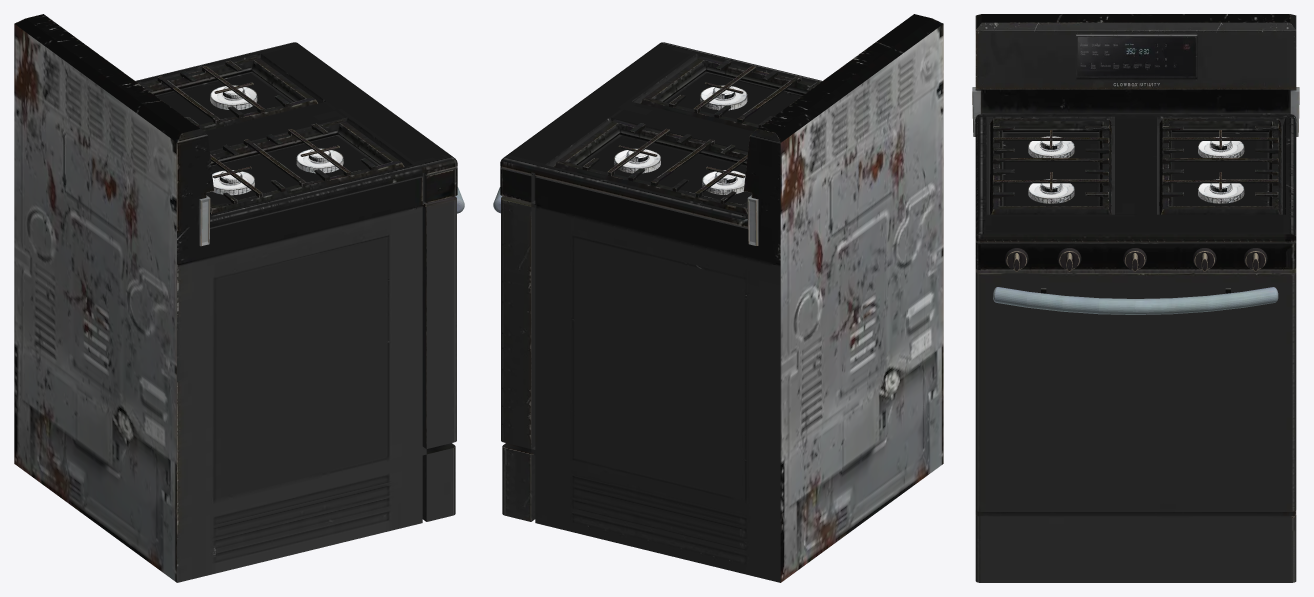
Rendered from stove02.glb.
3 renders of one model, left to right at view 1: azimuth 30°, elevation 25°; view 2: azimuth 150°, elevation 25°; view 3: azimuth 270°, elevation 25°, orthographic.
Visible parts, largest first — view 1: stove02; view 2: stove02; view 3: stove02.
Part boxes in pixels (x1=…): stove02: x1=14, y1=14, x2=464, y2=582; stove02: x1=493, y1=14, x2=943, y2=582; stove02: x1=972, y1=14, x2=1299, y2=582.
Size of the model in its own units: 0.6611 by 0.8708 by 0.5899.
1 material, 1 textured.
